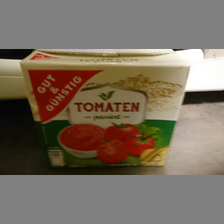tomato_sauce: (19, 50, 192, 168)
